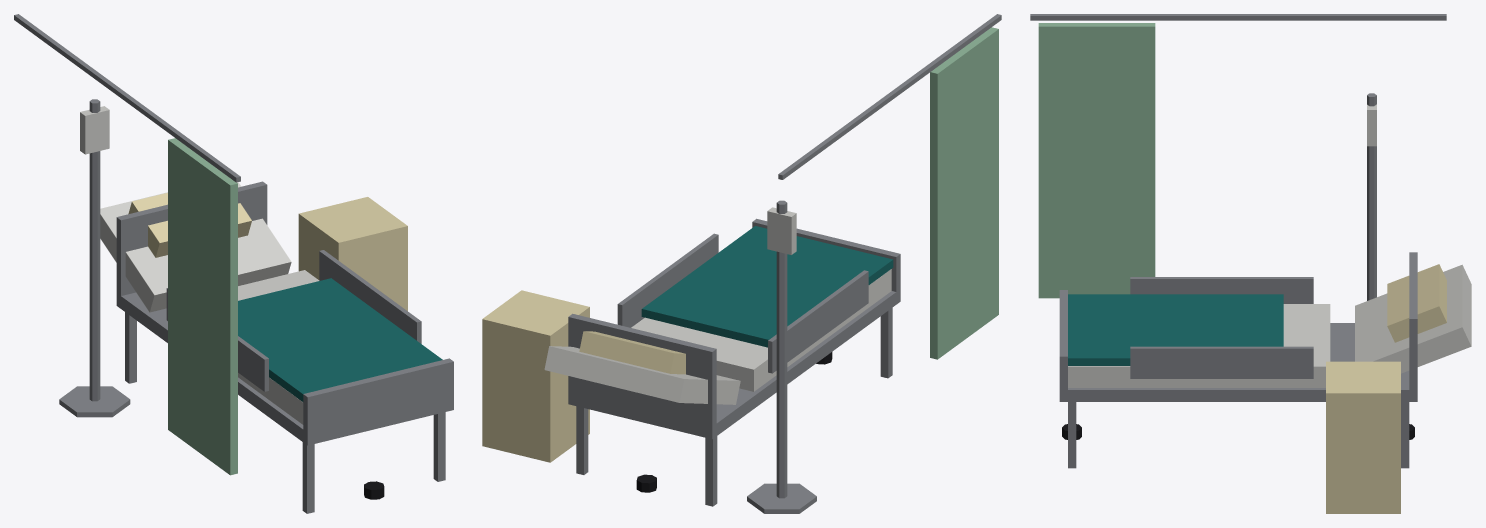
The model's file is prop_hospital-bed.639ca094cdcf.glb.
3 views of the same model, side by side, from view 1: azimuth 30°, elevation 25°; view 2: azimuth 150°, elevation 25°; view 3: azimuth 270°, elevation 25° (orthographic). The views are drawn at different scales.
Parts seen in each view (by area): view 1: body; view 2: body; view 3: body.
Boxes of the visible parts, bbox=[...] form: body: bbox=[14, 14, 453, 513]; body: bbox=[482, 14, 1001, 513]; body: bbox=[1030, 14, 1471, 513].
Size of the model in its own units: 2.15 by 2.32 by 2.65.
